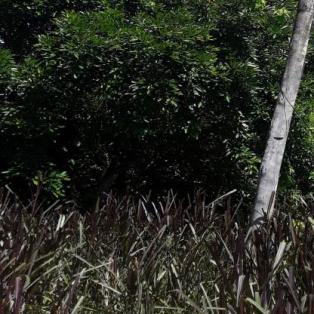Poste: (228, 0, 313, 223)
